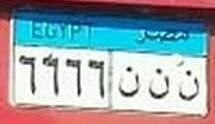6: (18, 50, 38, 97), (87, 55, 107, 100), (63, 55, 82, 101), (42, 55, 61, 101)
noon: (177, 68, 201, 105), (147, 65, 171, 102), (117, 62, 140, 100)
